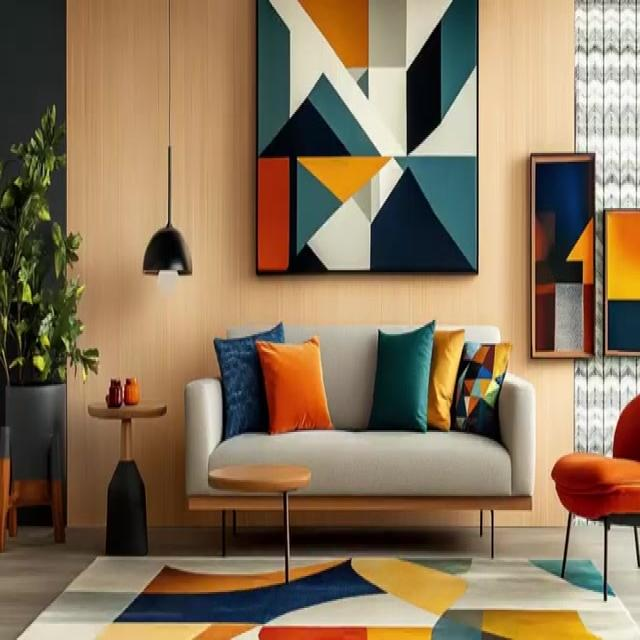obstacle: (184, 320, 536, 558), (550, 393, 639, 601), (207, 462, 311, 583), (87, 400, 167, 555)
